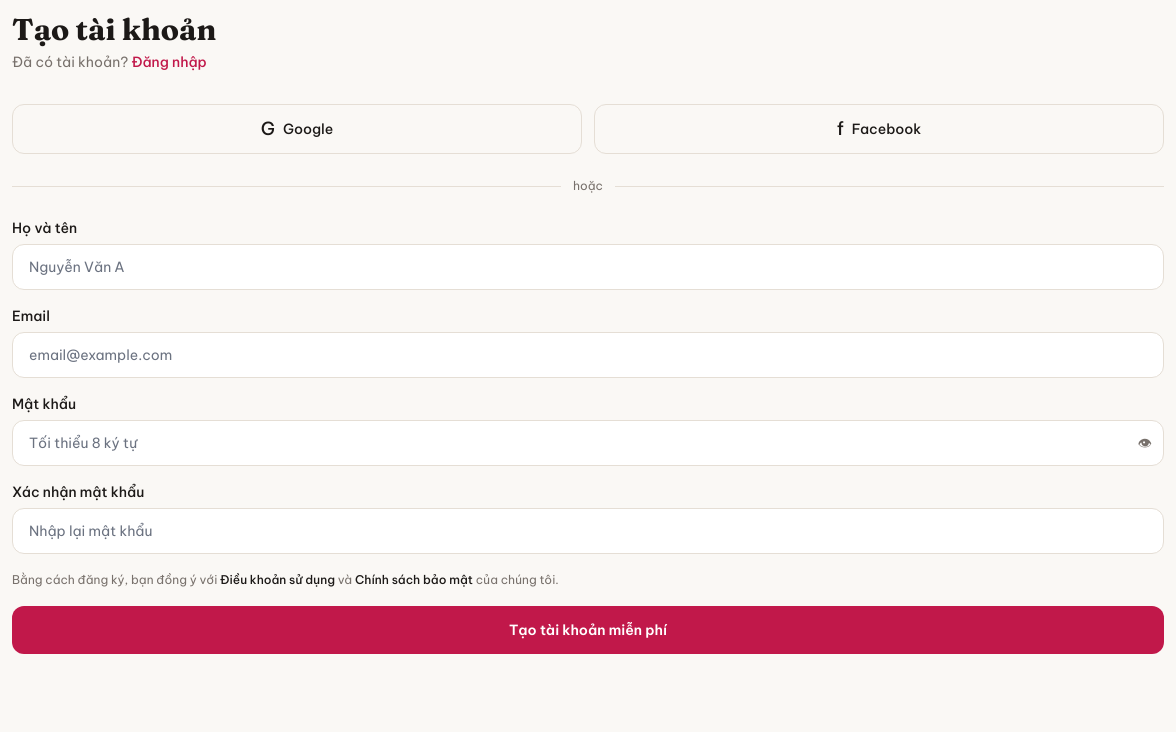
Test: RegisterPage.vue › displays error message on password mismatch (client-side)
The width and height of the screenshot is (1176, 732).
Type "Test User" into the field labelled "Họ và tên". click: (588, 267)
box: [12,244,1164,290]
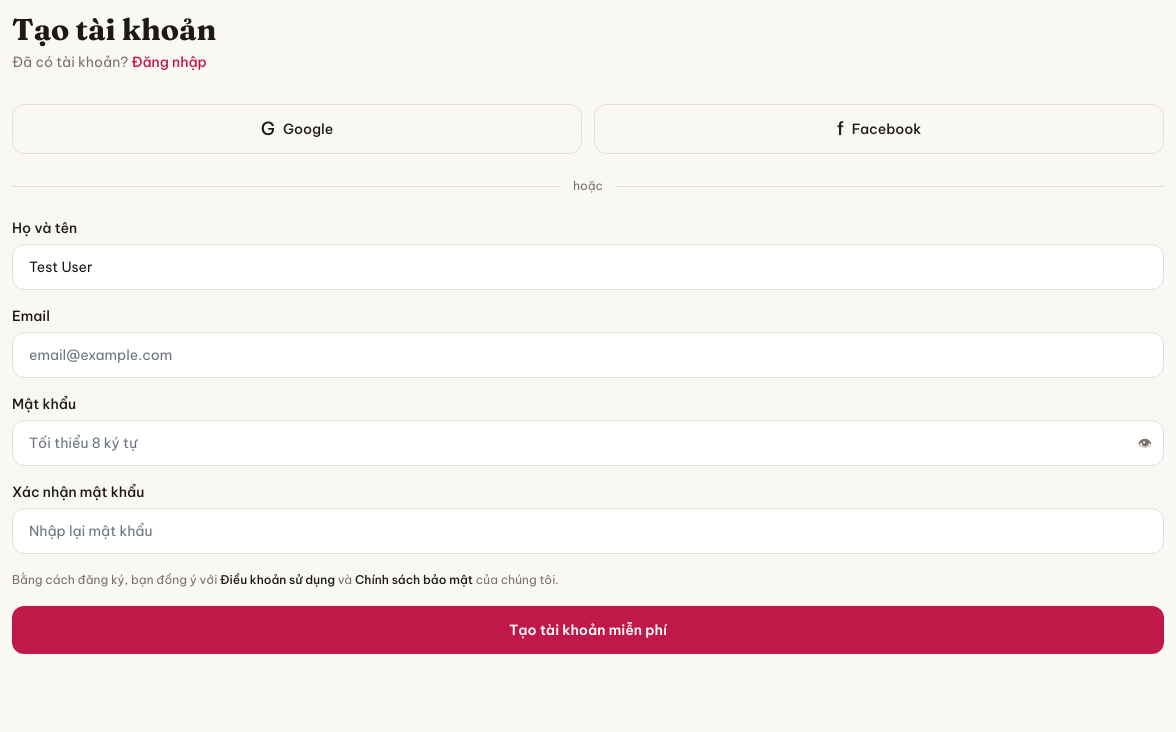
Type "test@example.com" into the field labelled "Email". click: (588, 355)
box: [12,332,1164,378]
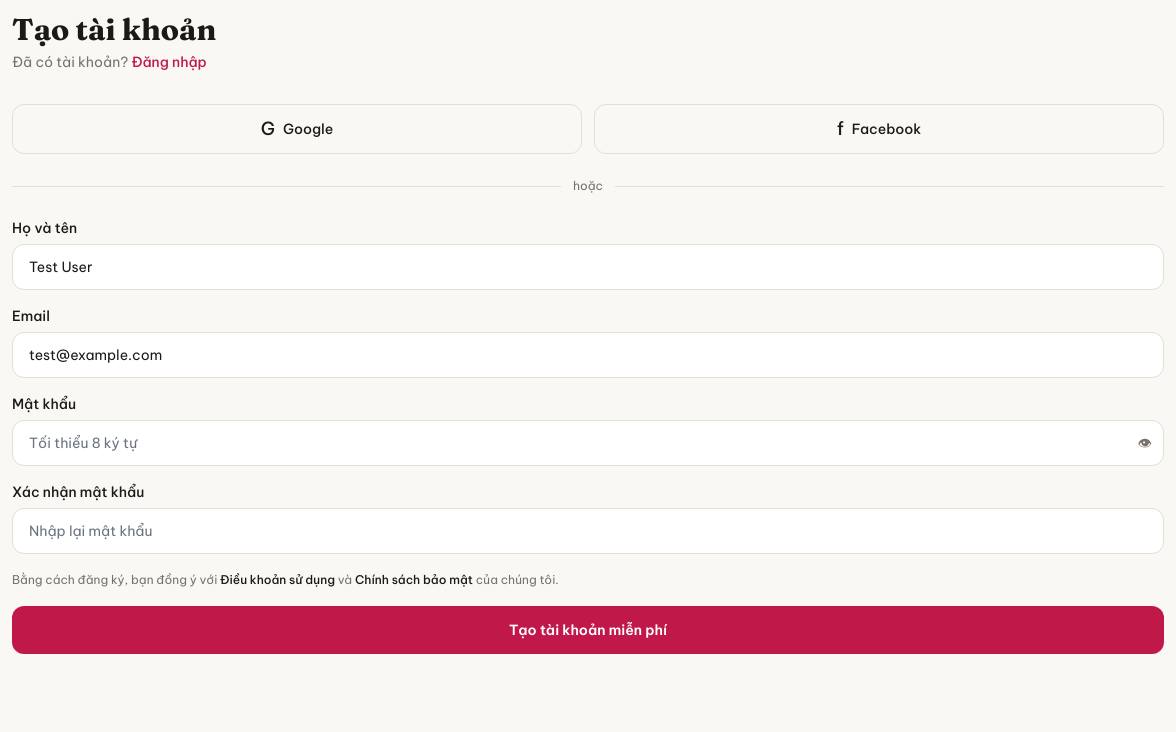
Type "password123" into the password field labelled "Mật khẩu". click: (588, 443)
box: [12,420,1164,466]
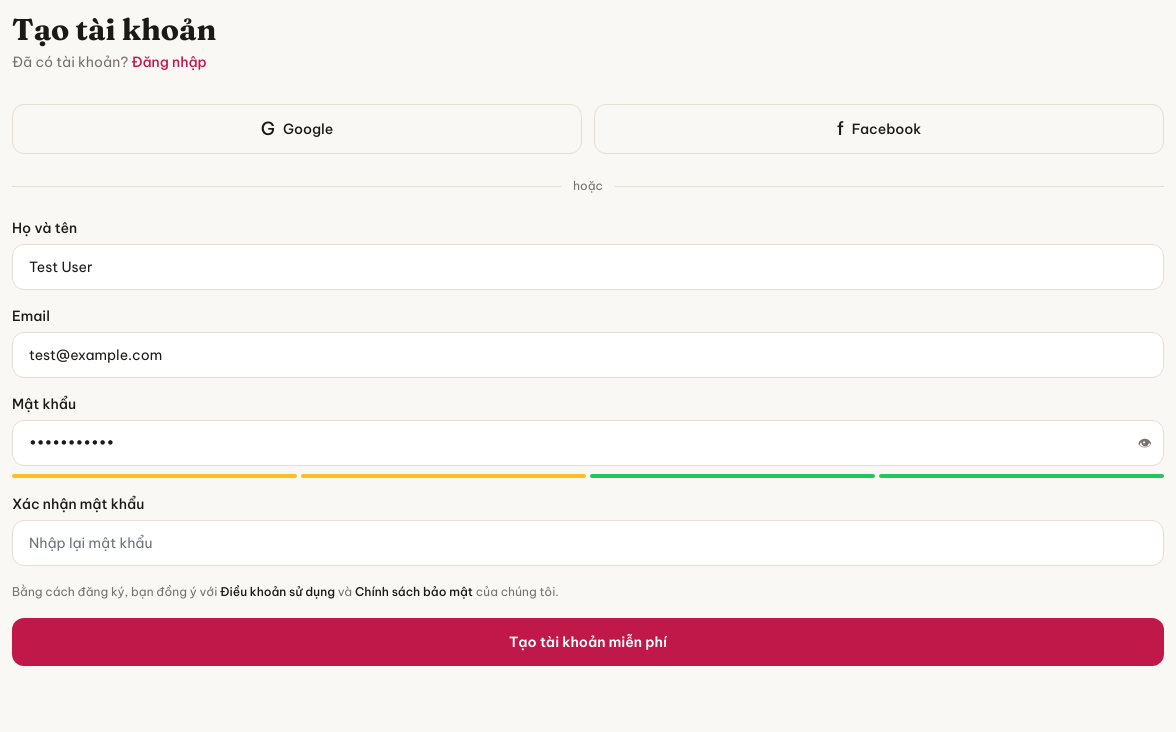
Type "differentPassword" into the password field labelled "Xác nhận mật khẩu". click: (588, 543)
box: [12,520,1164,566]
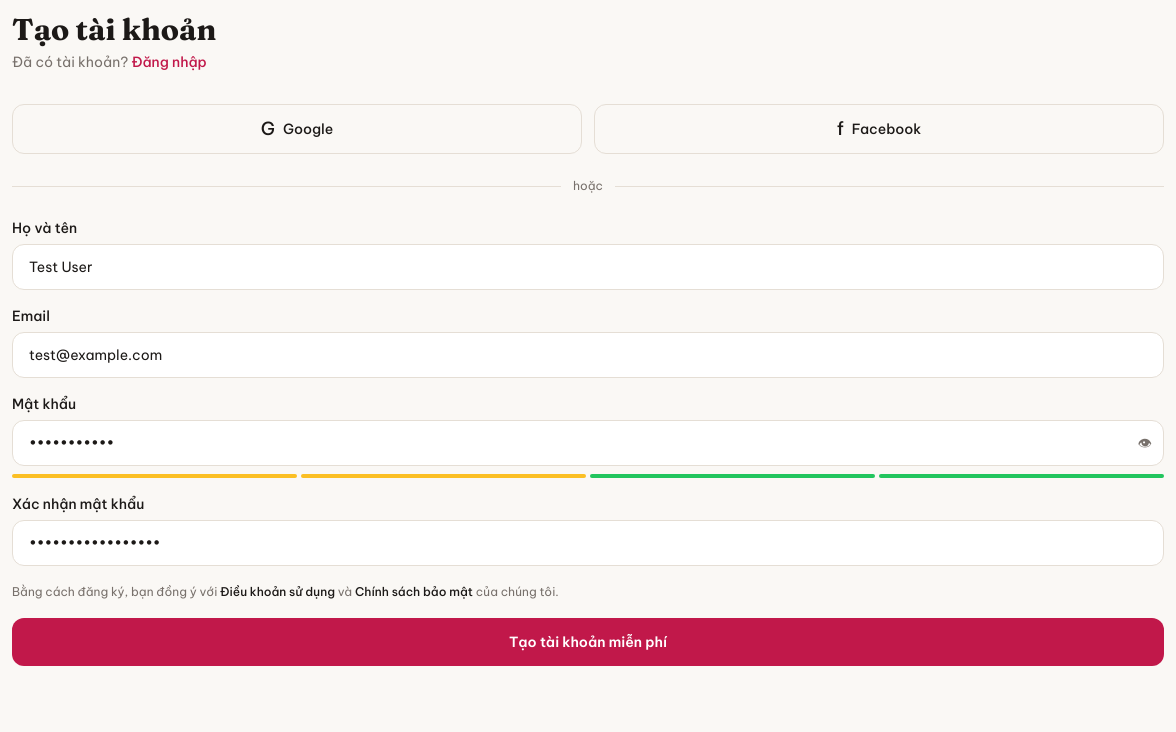
Submit the form, box [12,218,1164,666]
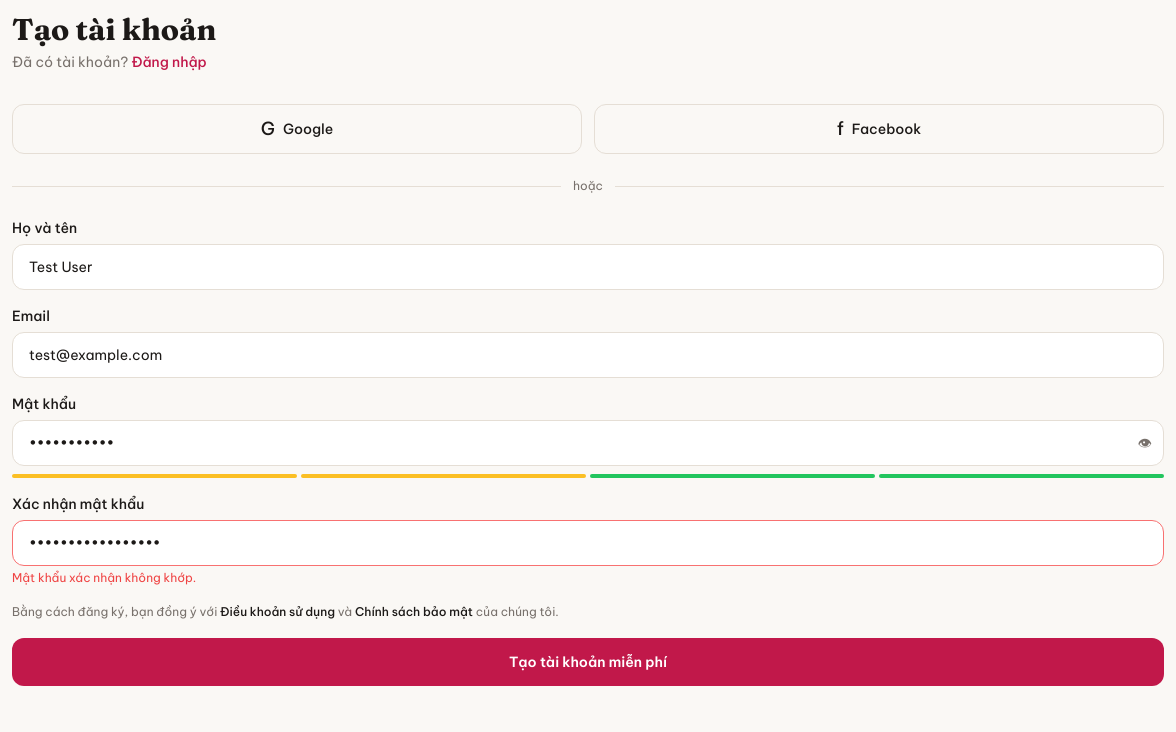
Now the text "Mật khẩu xác nhận không khớp" is shown, box [12,570,196,585]
